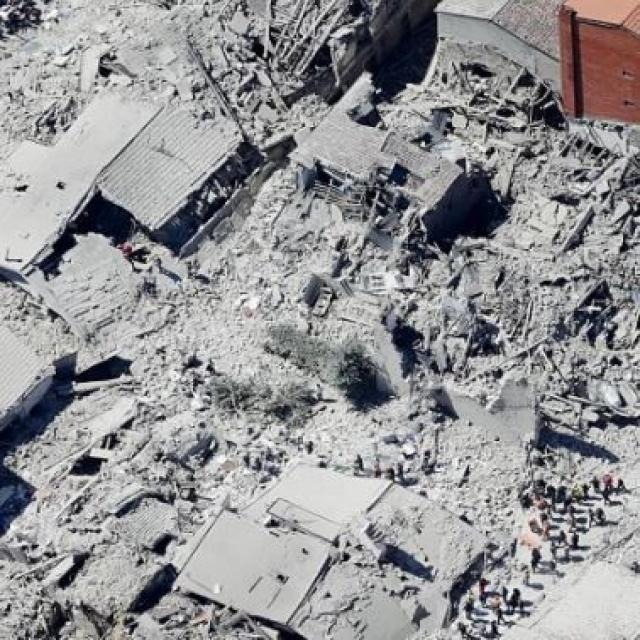collapsed_building: (0, 42, 259, 316), (256, 448, 454, 638), (518, 98, 638, 400), (290, 107, 447, 289)
